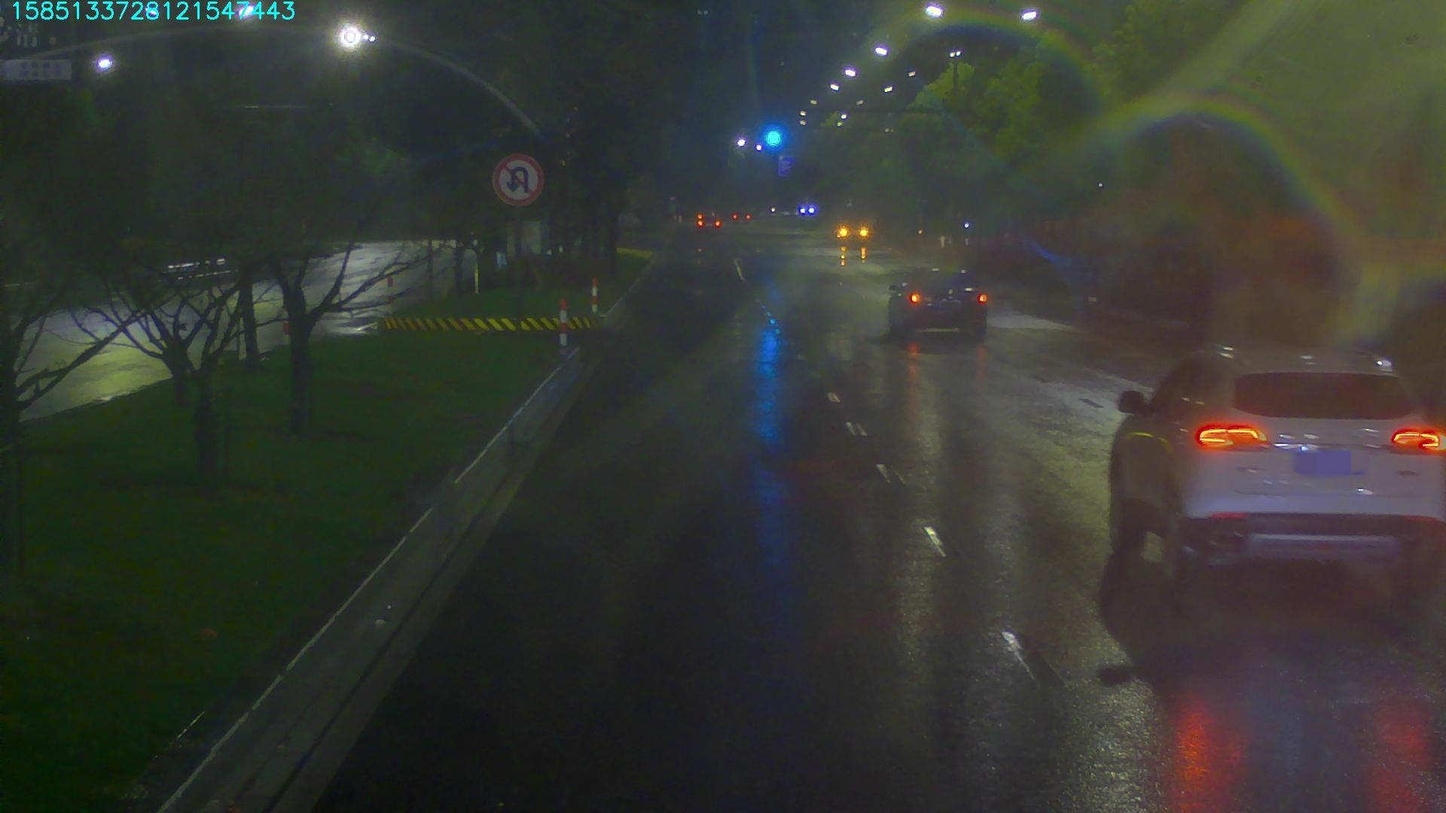green: (761, 124, 784, 151)
